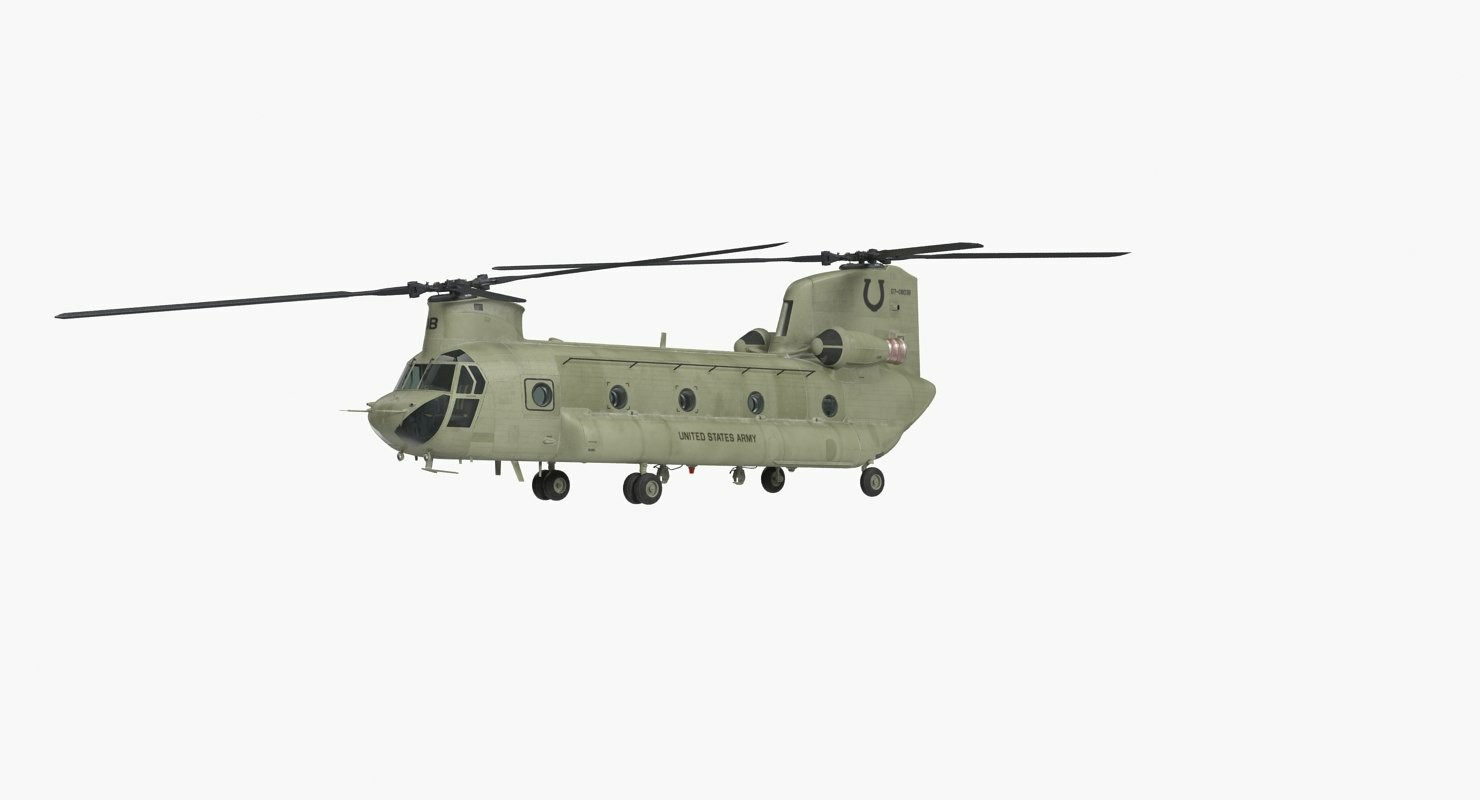chinook: (270, 227, 1123, 523)
